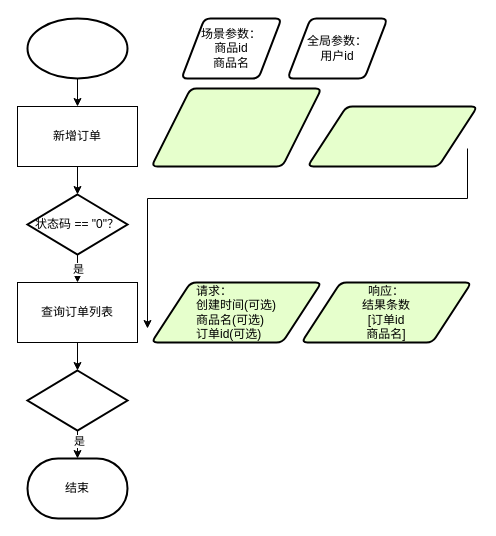
This 496x536 diagram has some shape labels left out. Here are the shapes that lost their labels. From the top down, the centre of each, then its label:
At (x=77, y=48): "开始".
At (x=236, y=127): "请求： 用户id 商品id 商品名 数量".
At (x=392, y=136): "响应： 状态码 订单id 创建时间".
At (x=77, y=400): "传入订单id, 结果条数 > 0".
